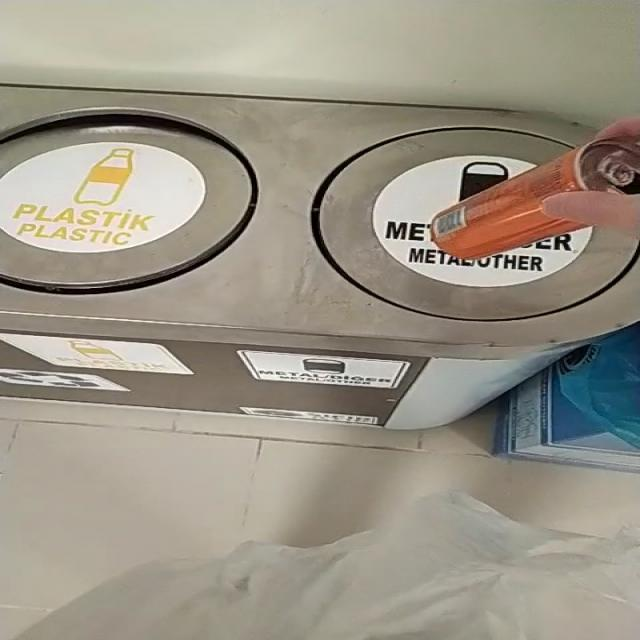bin: (0, 85, 640, 430)
metal: (432, 134, 640, 260)
